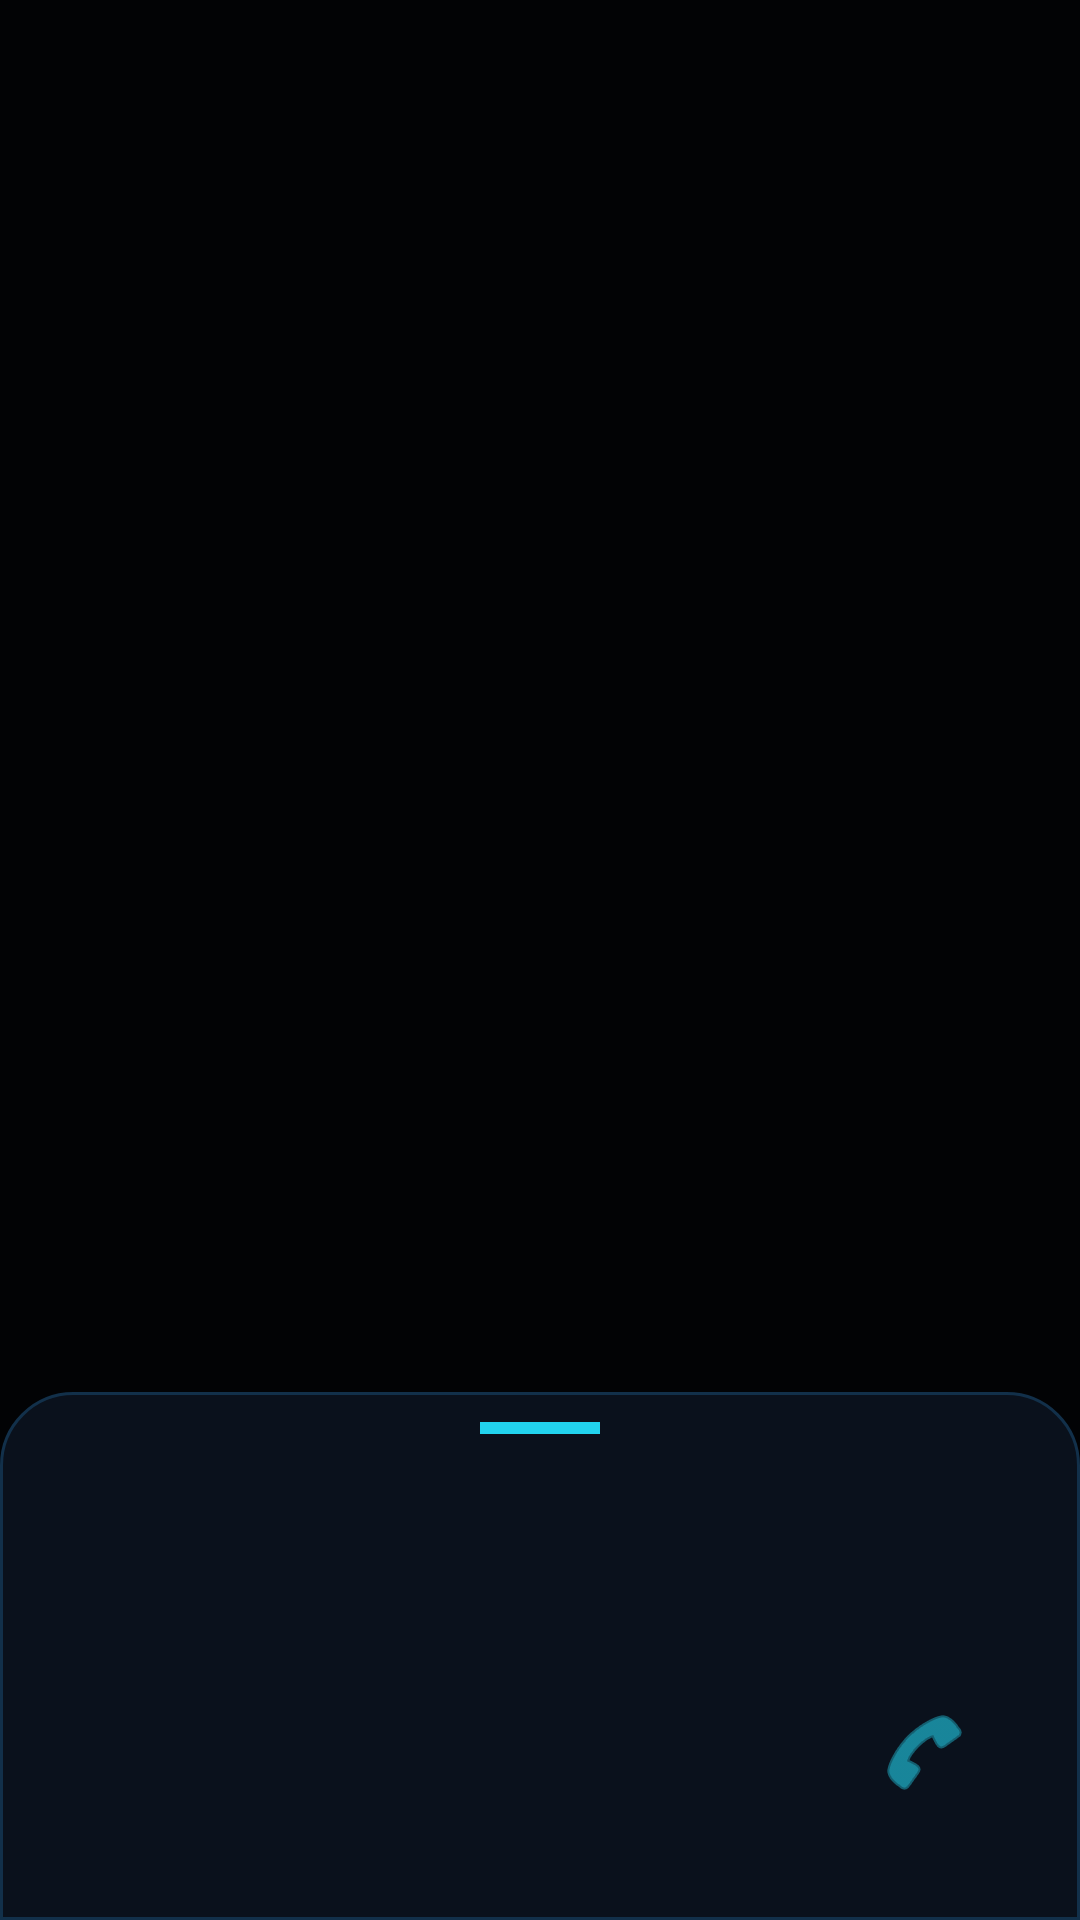

Named icons in this screenshot (1080*1920) and their centers, (x=x, y=y):
Chiama: (x=924, y=1752)
